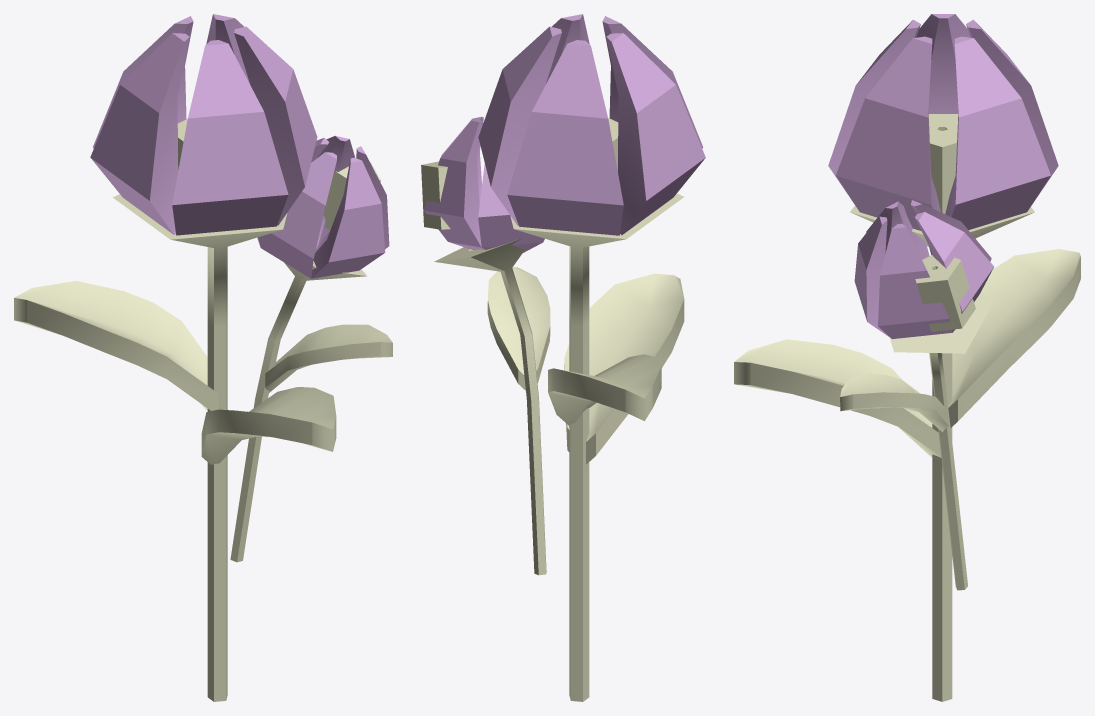
Rendered from Flor01.gltf.
3 renders of one model, left to right at view 1: azimuth 30°, elevation 25°; view 2: azimuth 150°, elevation 25°; view 3: azimuth 270°, elevation 25°, orthographic.
Parts seen in each view (by area): view 1: pPipe2, pCube2, pPipe9, pPipe3, pCube1, pCube5, pPipe10, pPipe11; view 2: pPipe2, pPipe3, pCube1, pPipe9, pPipe10, pCube2, pCube5, pPipe11; view 3: pPipe2, pPipe9, pCube2, pCube1, pPipe3, pPipe10, pCube5, pPipe11, pPipe4.
Part boxes in pixels (x1,y1,x2,y2): pPipe2: [90, 14, 317, 235]; pCube2: [14, 281, 219, 410]; pPipe9: [257, 135, 389, 278]; pPipe3: [113, 194, 287, 701]; pCube1: [201, 387, 336, 464]; pCube5: [265, 324, 392, 392]; pPipe10: [230, 261, 367, 562]; pPipe11: [323, 161, 380, 229]; pPipe2: [478, 14, 705, 235]; pPipe3: [510, 193, 683, 701]; pCube1: [564, 273, 684, 464]; pPipe9: [424, 116, 544, 252]; pPipe10: [434, 238, 546, 575]; pCube2: [548, 354, 661, 426]; pCube5: [487, 267, 550, 390]; pPipe11: [421, 161, 450, 229]; pPipe2: [828, 14, 1058, 230]; pPipe9: [854, 200, 994, 338]; pCube2: [948, 249, 1080, 427]; pCube1: [734, 339, 941, 457]; pPipe3: [850, 205, 1034, 701]; pPipe10: [890, 293, 993, 590]; pCube5: [840, 374, 948, 431]; pPipe11: [915, 255, 975, 331]; pPipe4: [928, 114, 958, 213].
Size of the model in its own units: 0.3057 by 0.6746 by 0.3191.
